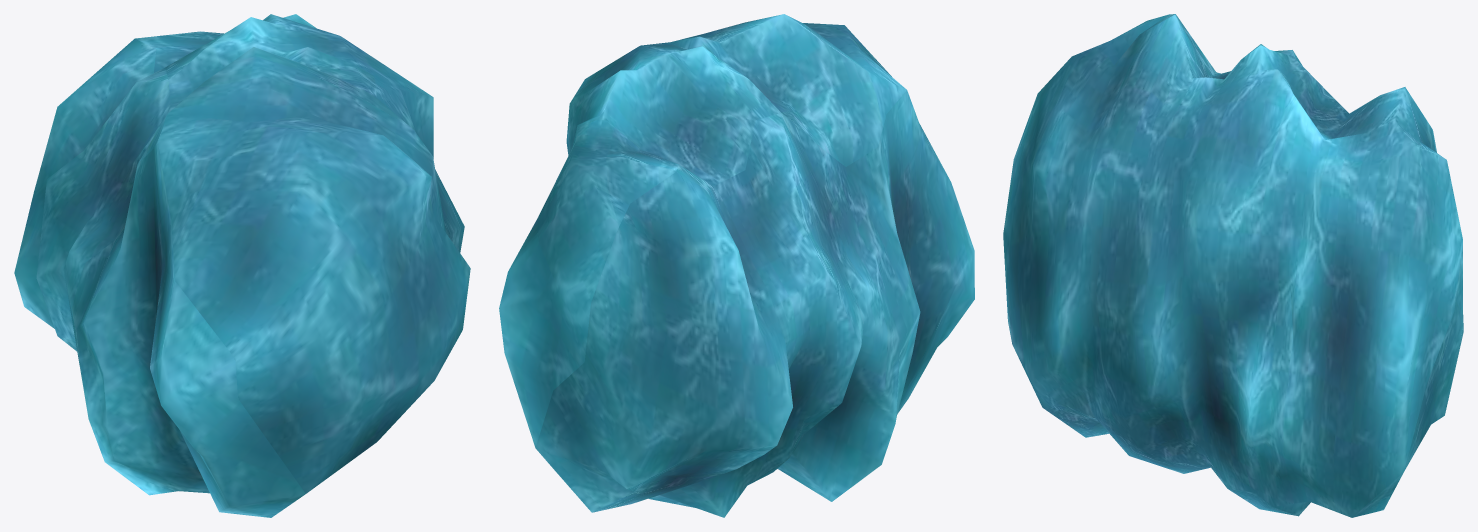
The model's file is ice.glb.
The picture shows the model from 3 angles, left to right: view 1: azimuth 30°, elevation 25°; view 2: azimuth 150°, elevation 25°; view 3: azimuth 270°, elevation 25°; orthographic projection.
Parts seen in each view (by area): view 1: rock_low; view 2: rock_low; view 3: rock_low.
Boxes of the visible parts, box(x1,y1,x2,y2) form: rock_low: box(14, 14, 470, 517); rock_low: box(499, 14, 974, 517); rock_low: box(1003, 14, 1463, 517).
Bounding box in the file's own units: 0.622 × 0.7724 × 0.6907.
Materials: 1 (1 with a texture image).
